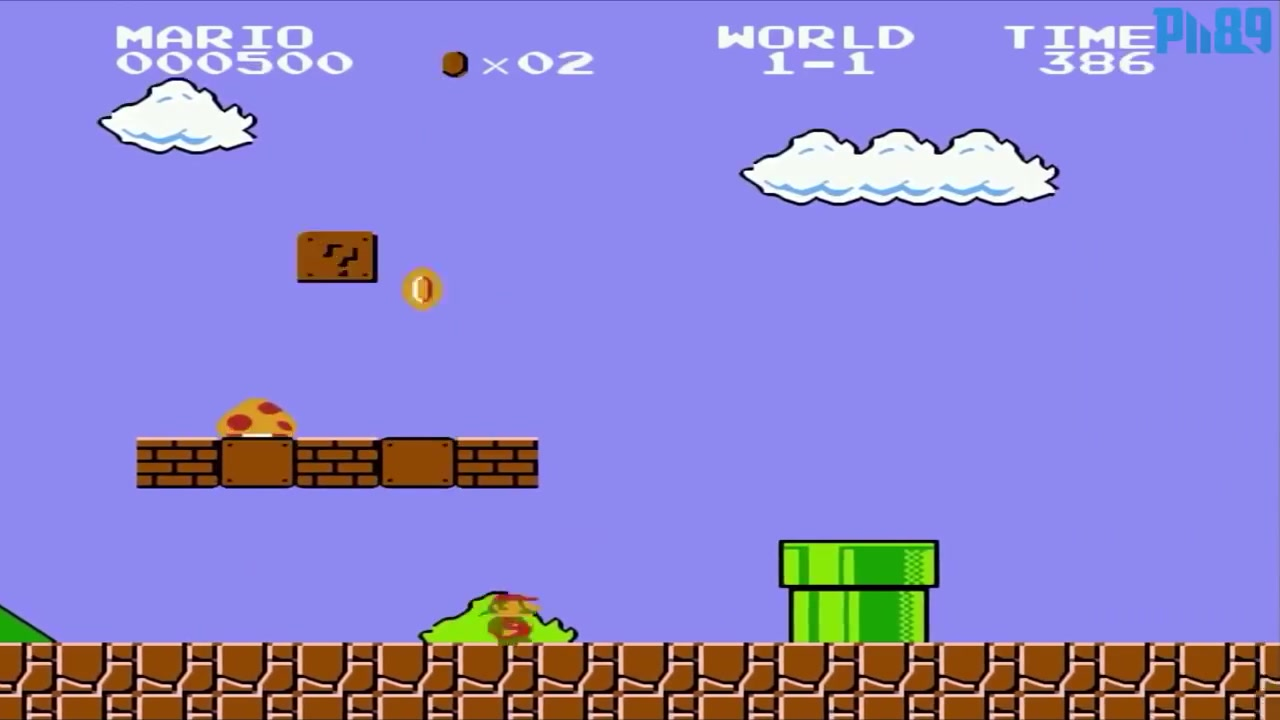mario: (480, 588, 545, 647)
